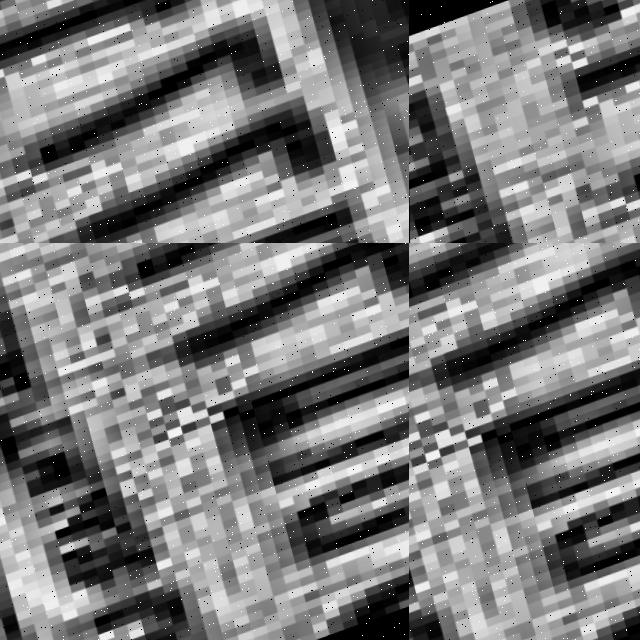license-plate: (0, 243, 409, 640), (409, 243, 640, 640), (409, 0, 640, 243), (0, 0, 230, 243)
